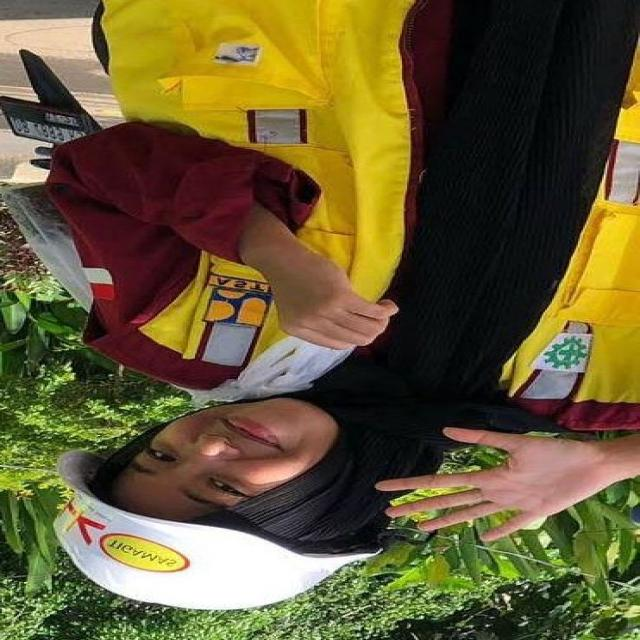safetyhelmet: (53, 436, 411, 614)
